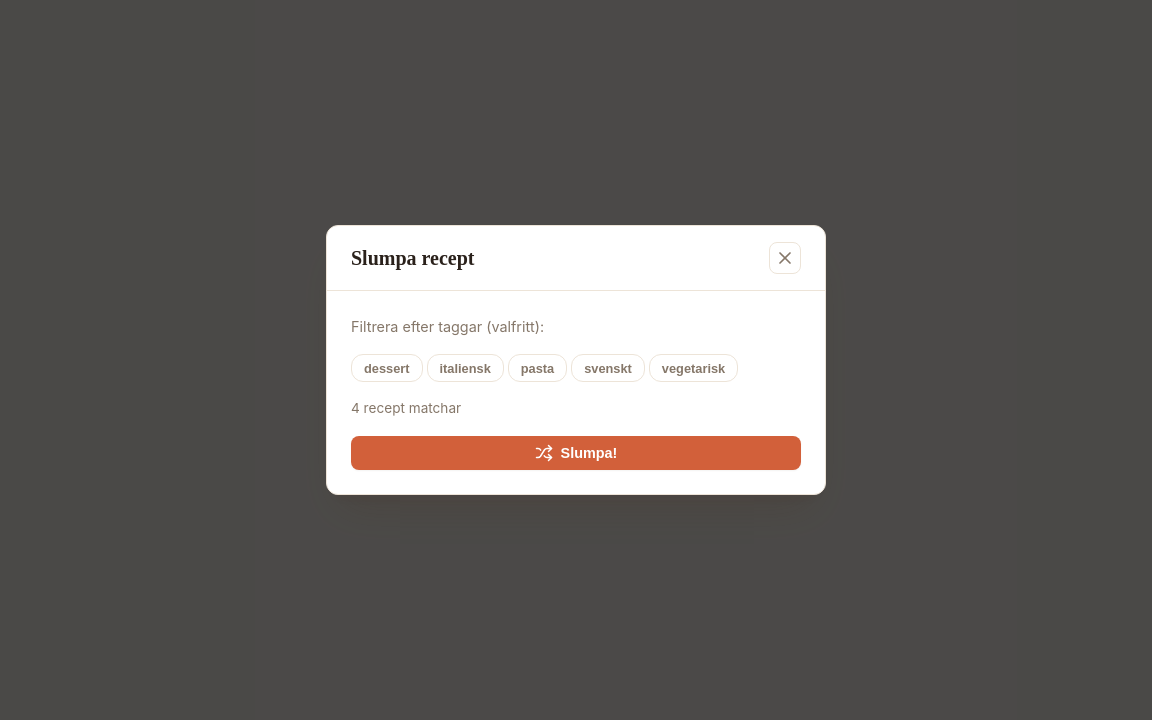
Test: RandomRecipeDialog › tag filtering › should deselect tag when clicking again
The image size is (1152, 720).
Click the button "italiensk" at (465, 368), box [426,354,504,382]
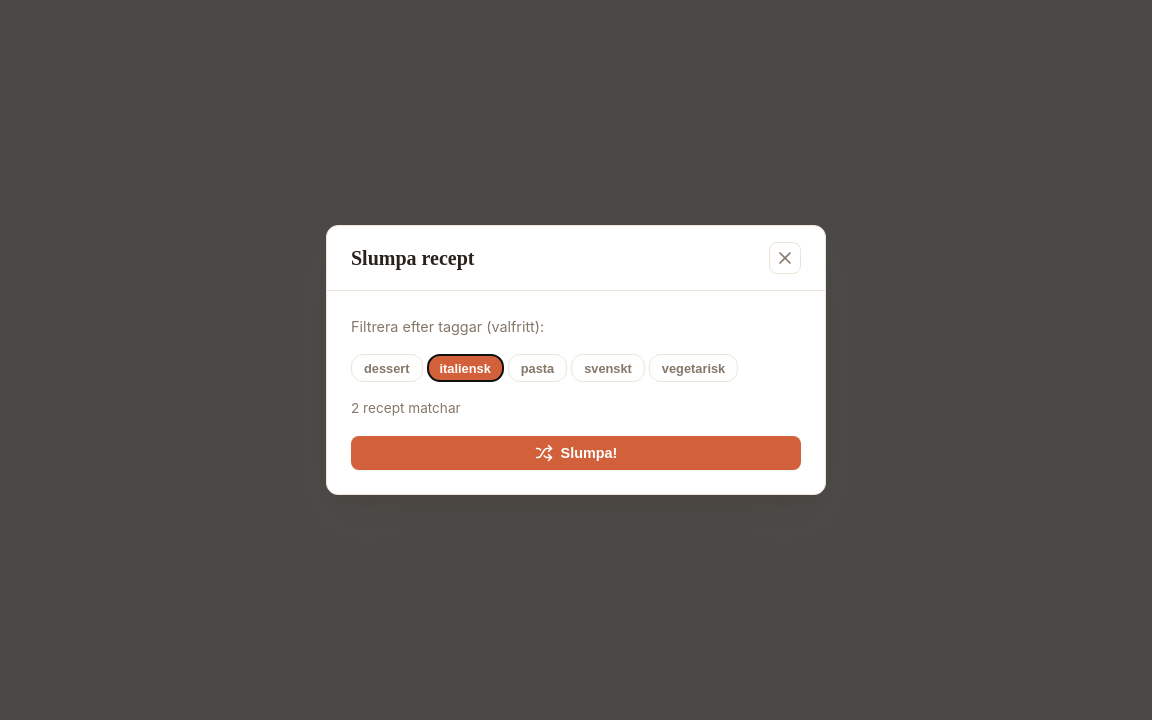
Expected: the text "2 recept matchar" is shown, [351,400,461,416]
Click the button "italiensk" at (465, 368), box [426,354,504,382]
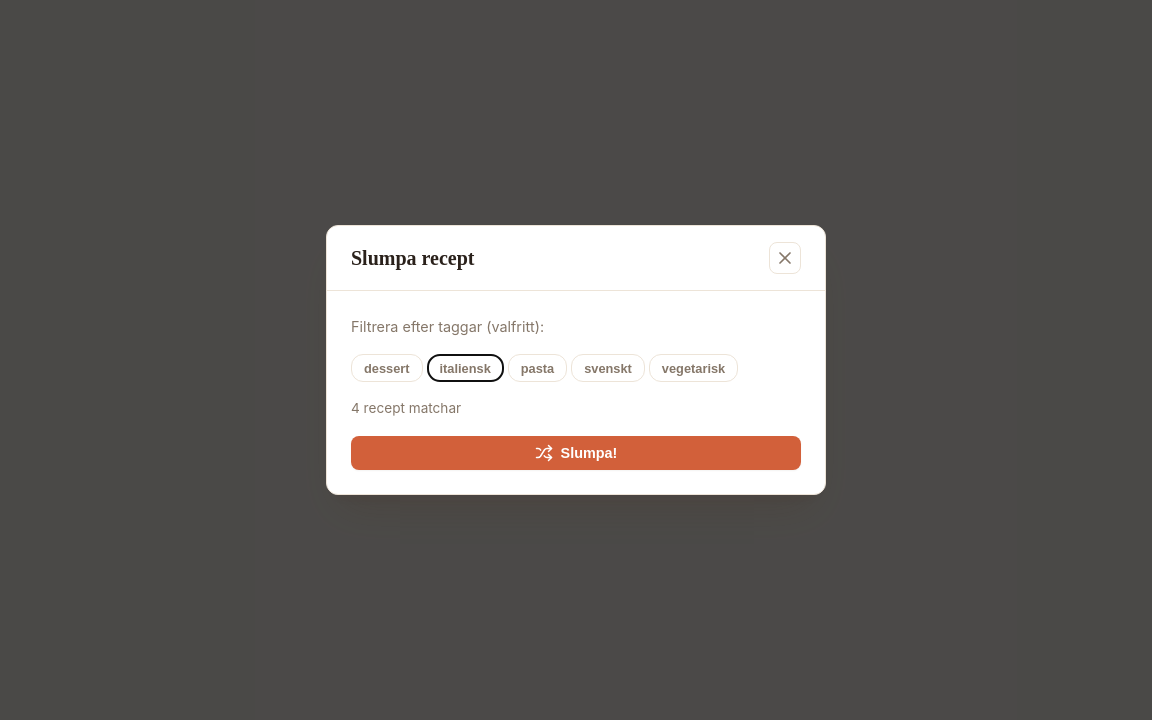
Expected: the text "4 recept matchar" is shown, [351,400,461,416]
